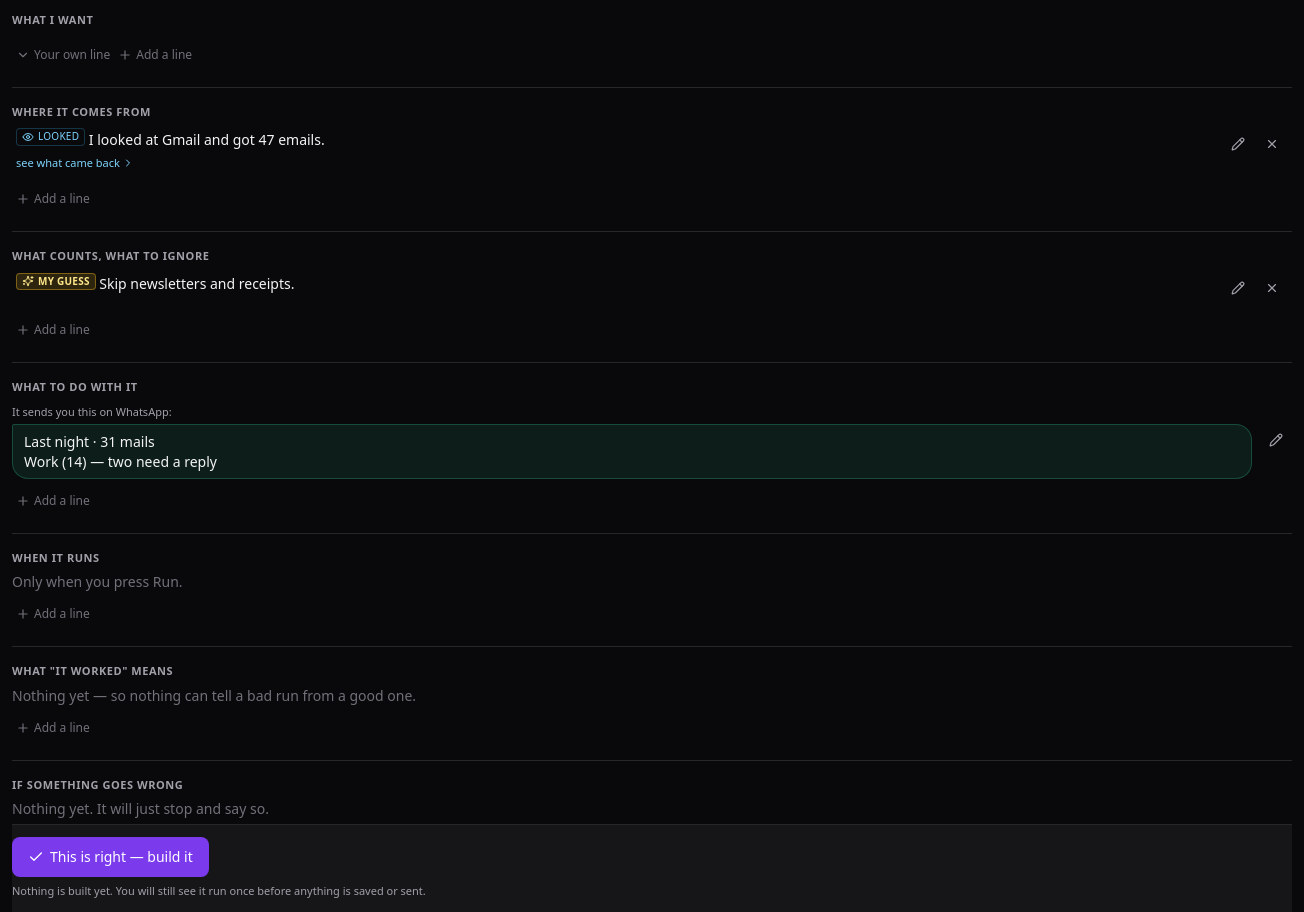
the brief screen › marks the AI's guess differently from his own words, without reading the text
The image size is (1304, 912).
Click the button with test id "mine-show" at (63, 54), box [12,38,114,70]
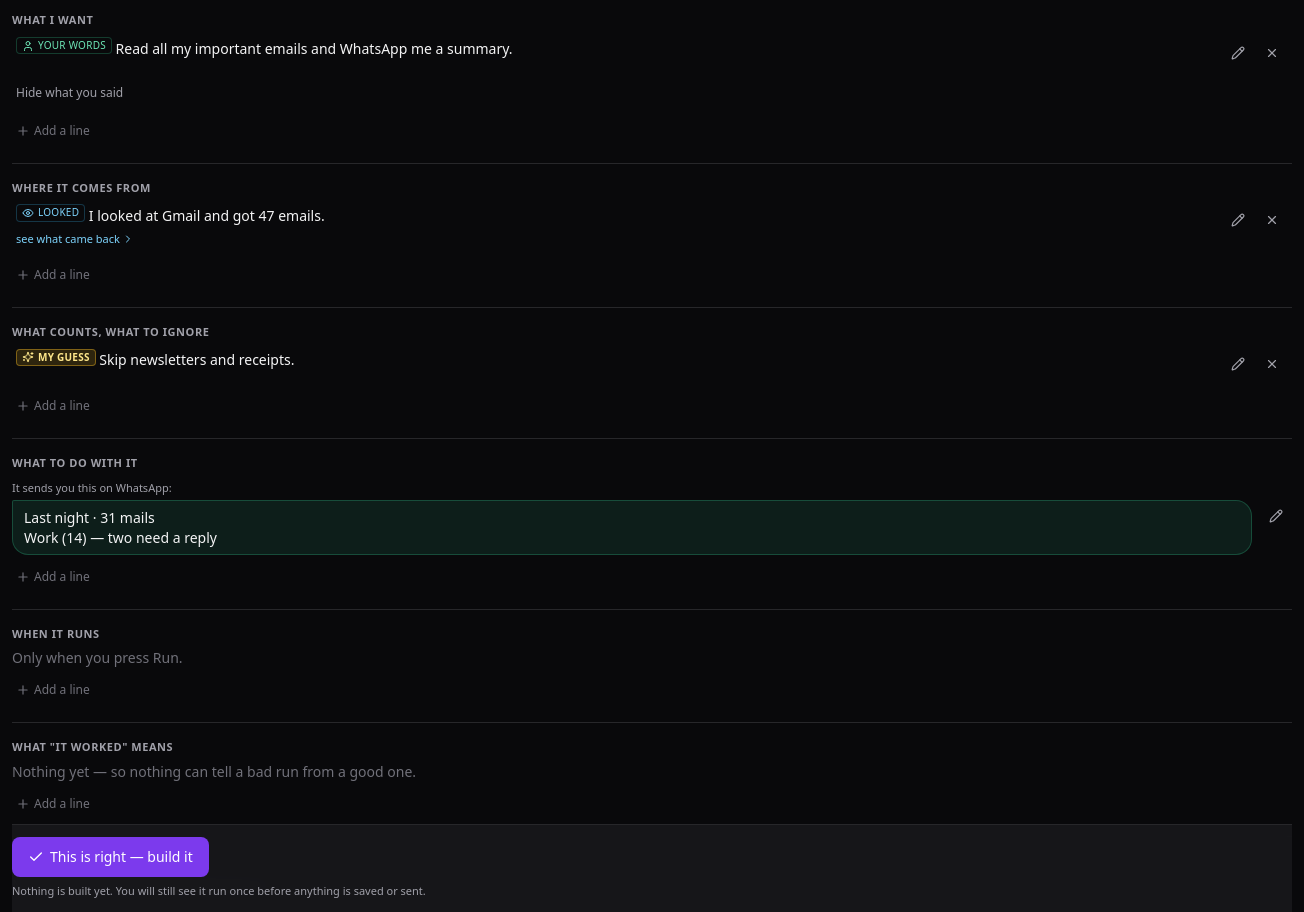
Check: the element with test id "tag-tool" reads "looked", box [38,205,79,219]
Check: the element with test id "tag-owner" reads "your words", box [38,38,106,52]
